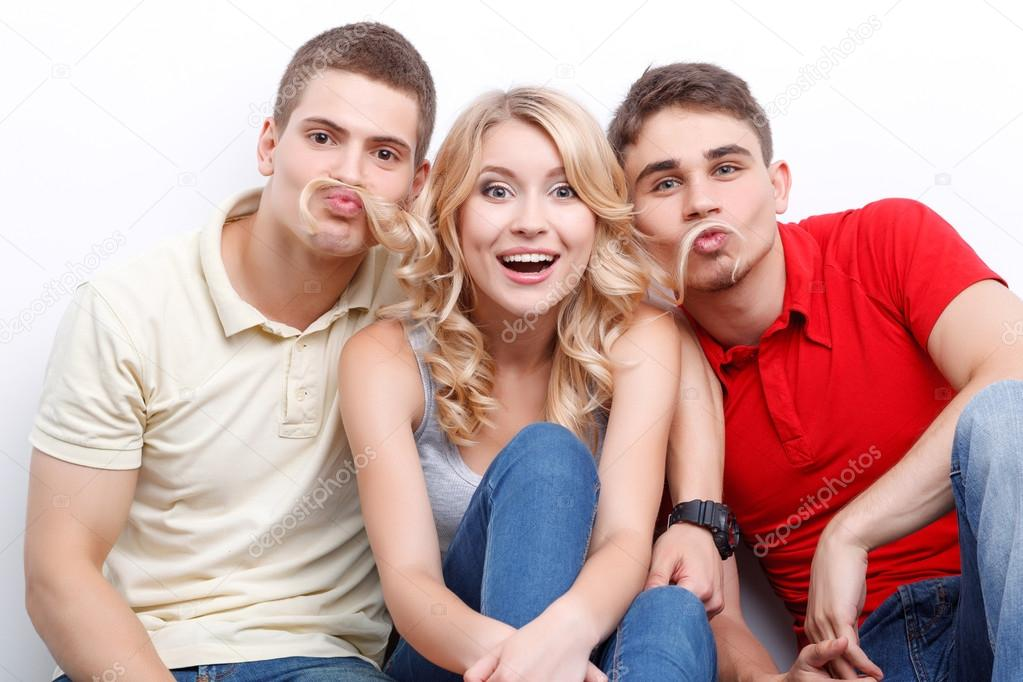bare: (452, 209, 605, 316), (637, 192, 792, 294), (261, 166, 413, 263)
